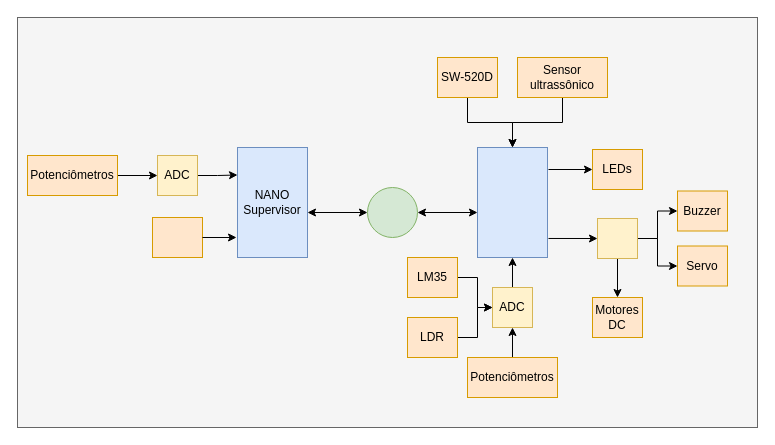
The diagram is 775 pixels wide and 445 high, and some of its shapes have lost their labels. Each missing label, with the box of its shape:
Botão: (152, 216, 202, 258)
I2C: (366, 186, 418, 238)
NANO Chão de fábrica: (476, 146, 548, 258)
PWM: (596, 218, 638, 258)
